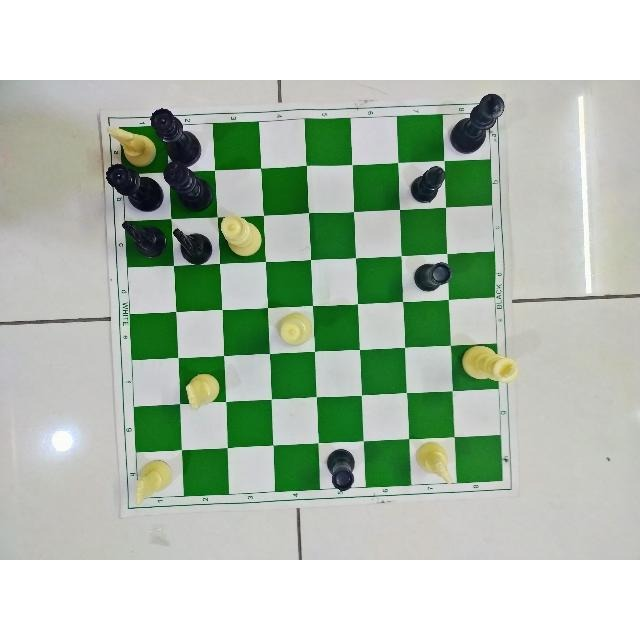black-bishop: (408, 163, 448, 206)
black-king: (447, 86, 509, 153), (161, 159, 215, 211)
black-knight: (117, 217, 174, 265), (170, 222, 214, 267)
black-queen: (148, 103, 207, 167), (101, 159, 167, 213)
black-rook: (314, 443, 361, 499), (410, 257, 454, 296)
white-king: (457, 343, 523, 388)
white-knight: (104, 120, 159, 170), (409, 436, 456, 494), (132, 454, 176, 510), (179, 363, 224, 413)
white-queen: (216, 211, 265, 259), (272, 310, 316, 354)
